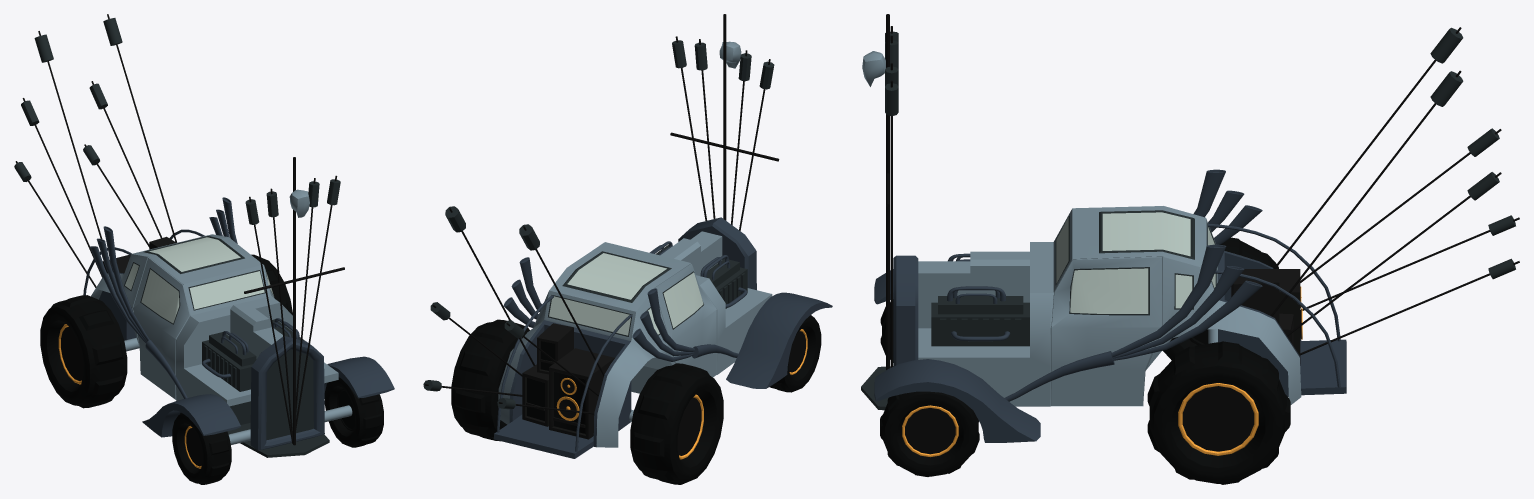
Rendered from CarCar.FBX.
3 renders of one model, left to right at view 1: azimuth 30°, elevation 25°; view 2: azimuth 150°, elevation 25°; view 3: azimuth 270°, elevation 25°, orthographic. The views are drawn at different scales.
Visible parts, largest first — view 1: Box001, Cylinder003, Cylinder020, Cylinder015, Cylinder014, Cylinder018, Cylinder010, Cylinder016, Cylinder017, Cylinder019, Cylinder009, Cylinder013 (+3 smaller); view 2: Box001, Box003, Cylinder003, Cylinder015, Cylinder018, Cylinder010, Cylinder019, Cylinder014, Cylinder016, Cylinder017, Cylinder009, Cylinder013; view 3: Box001, Cylinder020, Box003, Cylinder015, Cylinder014, Cylinder010, Cylinder018, Cylinder013, Cylinder009, Cylinder012, Cylinder011.
Part boxes in pixels (<box>): Box001: <box>40,197,394,457</box>; Cylinder003: <box>172,412,231,484</box>; Cylinder020: <box>324,377,383,447</box>; Cylinder015: <box>244,157,344,445</box>; Cylinder014: <box>103,14,176,242</box>; Cylinder018: <box>296,175,340,429</box>; Cylinder010: <box>34,31,102,238</box>; Cylinder016: <box>266,188,292,438</box>; Cylinder017: <box>245,196,292,443</box>; Cylinder019: <box>296,178,319,416</box>; Cylinder009: <box>21,98,102,277</box>; Cylinder013: <box>89,81,162,238</box>; Box001: <box>451,217,832,484</box>; Box003: <box>522,323,614,439</box>; Cylinder003: <box>769,315,821,392</box>; Cylinder015: <box>670,14,779,220</box>; Cylinder018: <box>672,36,707,220</box>; Cylinder010: <box>519,224,604,376</box>; Cylinder019: <box>694,39,715,218</box>; Cylinder014: <box>445,206,534,365</box>; Cylinder016: <box>731,50,751,225</box>; Cylinder017: <box>739,59,774,230</box>; Cylinder009: <box>504,320,598,396</box>; Cylinder013: <box>430,302,522,376</box>; Box001: <box>861,169,1346,484</box>; Cylinder020: <box>880,391,979,476</box>; Box003: <box>1231,269,1302,363</box>; Cylinder015: <box>862,14,889,369</box>; Cylinder014: <box>1270,70,1463,316</box>; Cylinder010: <box>1273,27,1463,268</box>; Cylinder018: <box>885,80,898,367</box>; Cylinder013: <box>1286,172,1501,336</box>; Cylinder009: <box>1300,128,1501,282</box>; Cylinder012: <box>1299,258,1519,355</box>; Cylinder011: <box>1302,215,1519,310</box>.
Size of the model in its own units: 65.16 by 95.86 by 139.
